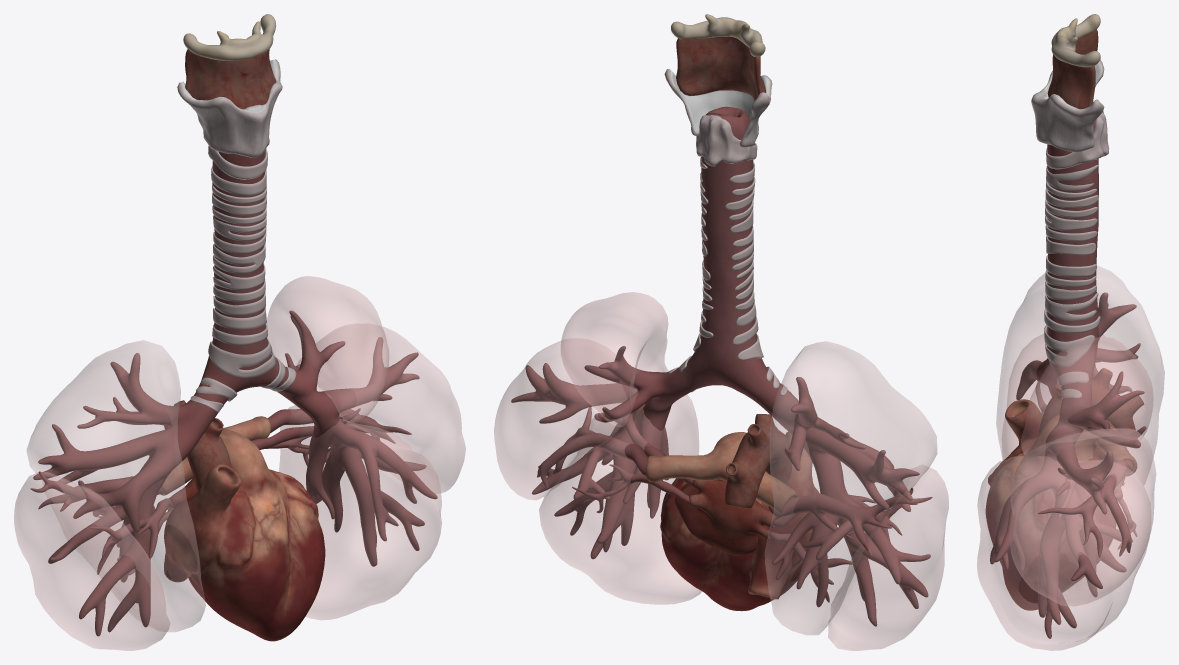
File: 1heart_and_lungs.glb
The picture shows the model from 3 angles, left to right: view 1: azimuth 30°, elevation 25°; view 2: azimuth 150°, elevation 25°; view 3: azimuth 270°, elevation 25°; orthographic projection. The views are drawn at different scales.
Parts seen in each view (by area): view 1: Pulmonary_M1, right_Upper_lung_M1, Heart_realistic_week16, Left_lower_lung_M1, right_lower_lung_M1, Left_middel_lung_M1, Left_upper_lung_M1, Pulmonary_Syatem_Whole_week_16_Realistic_01:Tracheal_cartila, Heart_connections_Realistic_M1, Thyriod_cartilage_M1, Thyrohyoid_membrane_M1, Hyoid_cartilage_M1 (+2 smaller); view 2: Pulmonary_M1, right_Upper_lung_M1, Left_lower_lung_M1, right_lower_lung_M1, Left_middel_lung_M1, Heart_realistic_week16, Left_upper_lung_M1, Heart_connections_Realistic_M1, back_connection_M, Thyrohyoid_membrane_M1, Pulmonary_Syatem_Whole_week_16_Realistic_01:Tracheal_cartila, Aortic_arch_M1 (+3 smaller); view 3: Left_middel_lung_M1, Pulmonary_M1, Left_lower_lung_M1, right_Upper_lung_M1, Left_upper_lung_M1, Heart_realistic_week16, Pulmonary_Syatem_Whole_week_16_Realistic_01:Tracheal_cartila, Thyriod_cartilage_M1, Heart_connections_Realistic_M1, Thyrohyoid_membrane_M1, Aortic_arch_M1, Hyoid_cartilage_M1 (+2 smaller).
Boxes of the visible parts, x1,y1,x2,y2 form: Pulmonary_M1: (33, 151, 437, 636); right_Upper_lung_M1: (27, 340, 205, 631); Heart_realistic_week16: (160, 416, 325, 641); Left_lower_lung_M1: (279, 405, 441, 619); right_lower_lung_M1: (14, 472, 170, 650); Left_middel_lung_M1: (297, 323, 465, 493); Left_upper_lung_M1: (267, 276, 388, 422); Pulmonary_Syatem_Whole_week_16_Realistic_01:Tracheal_cartila: (190, 166, 296, 411); Heart_connections_Realistic_M1: (30, 408, 411, 574); Thyriod_cartilage_M1: (177, 59, 282, 157); Thyrohyoid_membrane_M1: (185, 49, 275, 109); Hyoid_cartilage_M1: (183, 14, 276, 60); Pulmonary_M1: (511, 106, 930, 626); right_Upper_lung_M1: (765, 341, 937, 635); Left_lower_lung_M1: (539, 394, 701, 604); right_lower_lung_M1: (828, 465, 948, 650); Left_middel_lung_M1: (494, 338, 626, 499); Heart_realistic_week16: (645, 432, 818, 611); Left_upper_lung_M1: (561, 292, 668, 426); Heart_connections_Realistic_M1: (537, 407, 932, 602); back_connection_M: (675, 480, 777, 555); Thyrohyoid_membrane_M1: (676, 36, 765, 100); Pulmonary_Syatem_Whole_week_16_Realistic_01:Tracheal_cartila: (668, 157, 787, 395); Aortic_arch_M1: (724, 414, 791, 508); Left_middel_lung_M1: (1010, 428, 1155, 606); Pulmonary_M1: (990, 121, 1146, 638); Left_lower_lung_M1: (977, 456, 1150, 650); right_Upper_lung_M1: (996, 265, 1164, 484); Left_upper_lung_M1: (1021, 337, 1153, 457); Heart_realistic_week16: (985, 399, 1137, 610); Pulmonary_Syatem_Whole_week_16_Realistic_01:Tracheal_cartila: (1044, 165, 1100, 399); Thyriod_cartilage_M1: (1031, 59, 1104, 152); Heart_connections_Realistic_M1: (1036, 364, 1136, 557); Thyrohyoid_membrane_M1: (1047, 29, 1098, 109); Aortic_arch_M1: (1037, 368, 1143, 436); Hyoid_cartilage_M1: (1051, 14, 1100, 67).
Size of the model in its own units: 0.0614 by 0.081 by 0.024.
15 materials, 8 textured.
